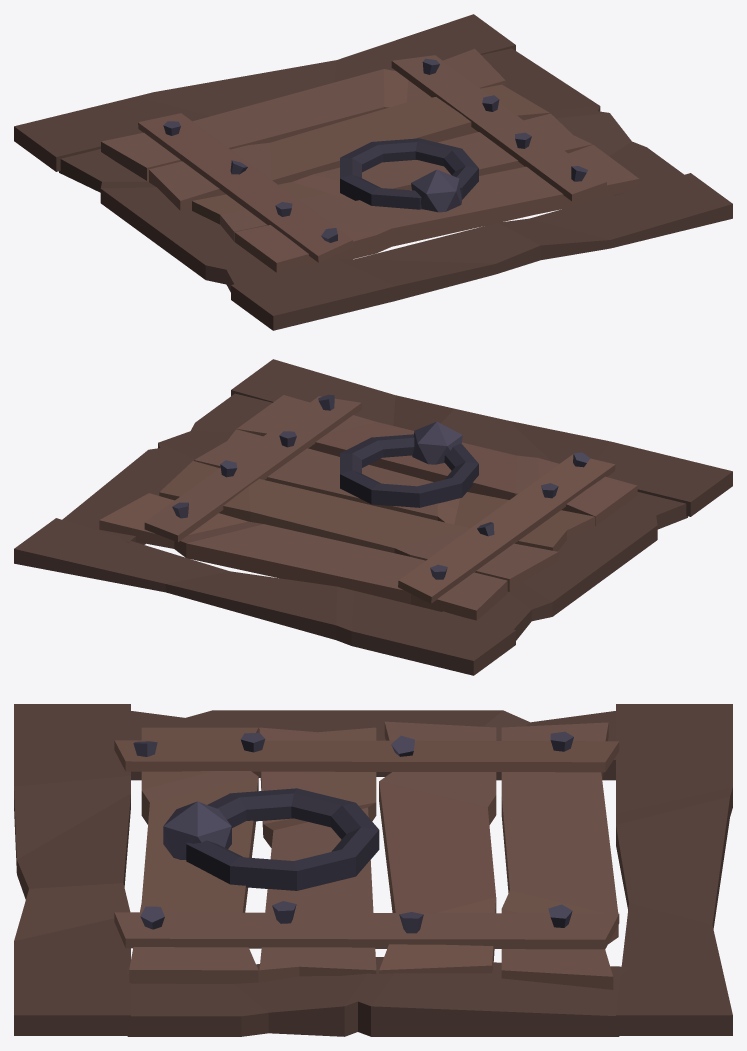
Rendered from Trapdoor.glb.
The picture shows the model from 3 angles, top to bottom: view 1: azimuth 30°, elevation 25°; view 2: azimuth 150°, elevation 25°; view 3: azimuth 270°, elevation 25°; orthographic projection. The views are drawn at different scales.
Visible parts, largest first — view 1: Trapdoor; view 2: Trapdoor; view 3: Trapdoor.
Part boxes in pixels (x1,y1,x2,y2): Trapdoor: (14,14,732,330); Trapdoor: (14,359,732,675); Trapdoor: (14,704,732,1036).
Size of the model in its own units: 1.74 by 0.2152 by 1.7.
